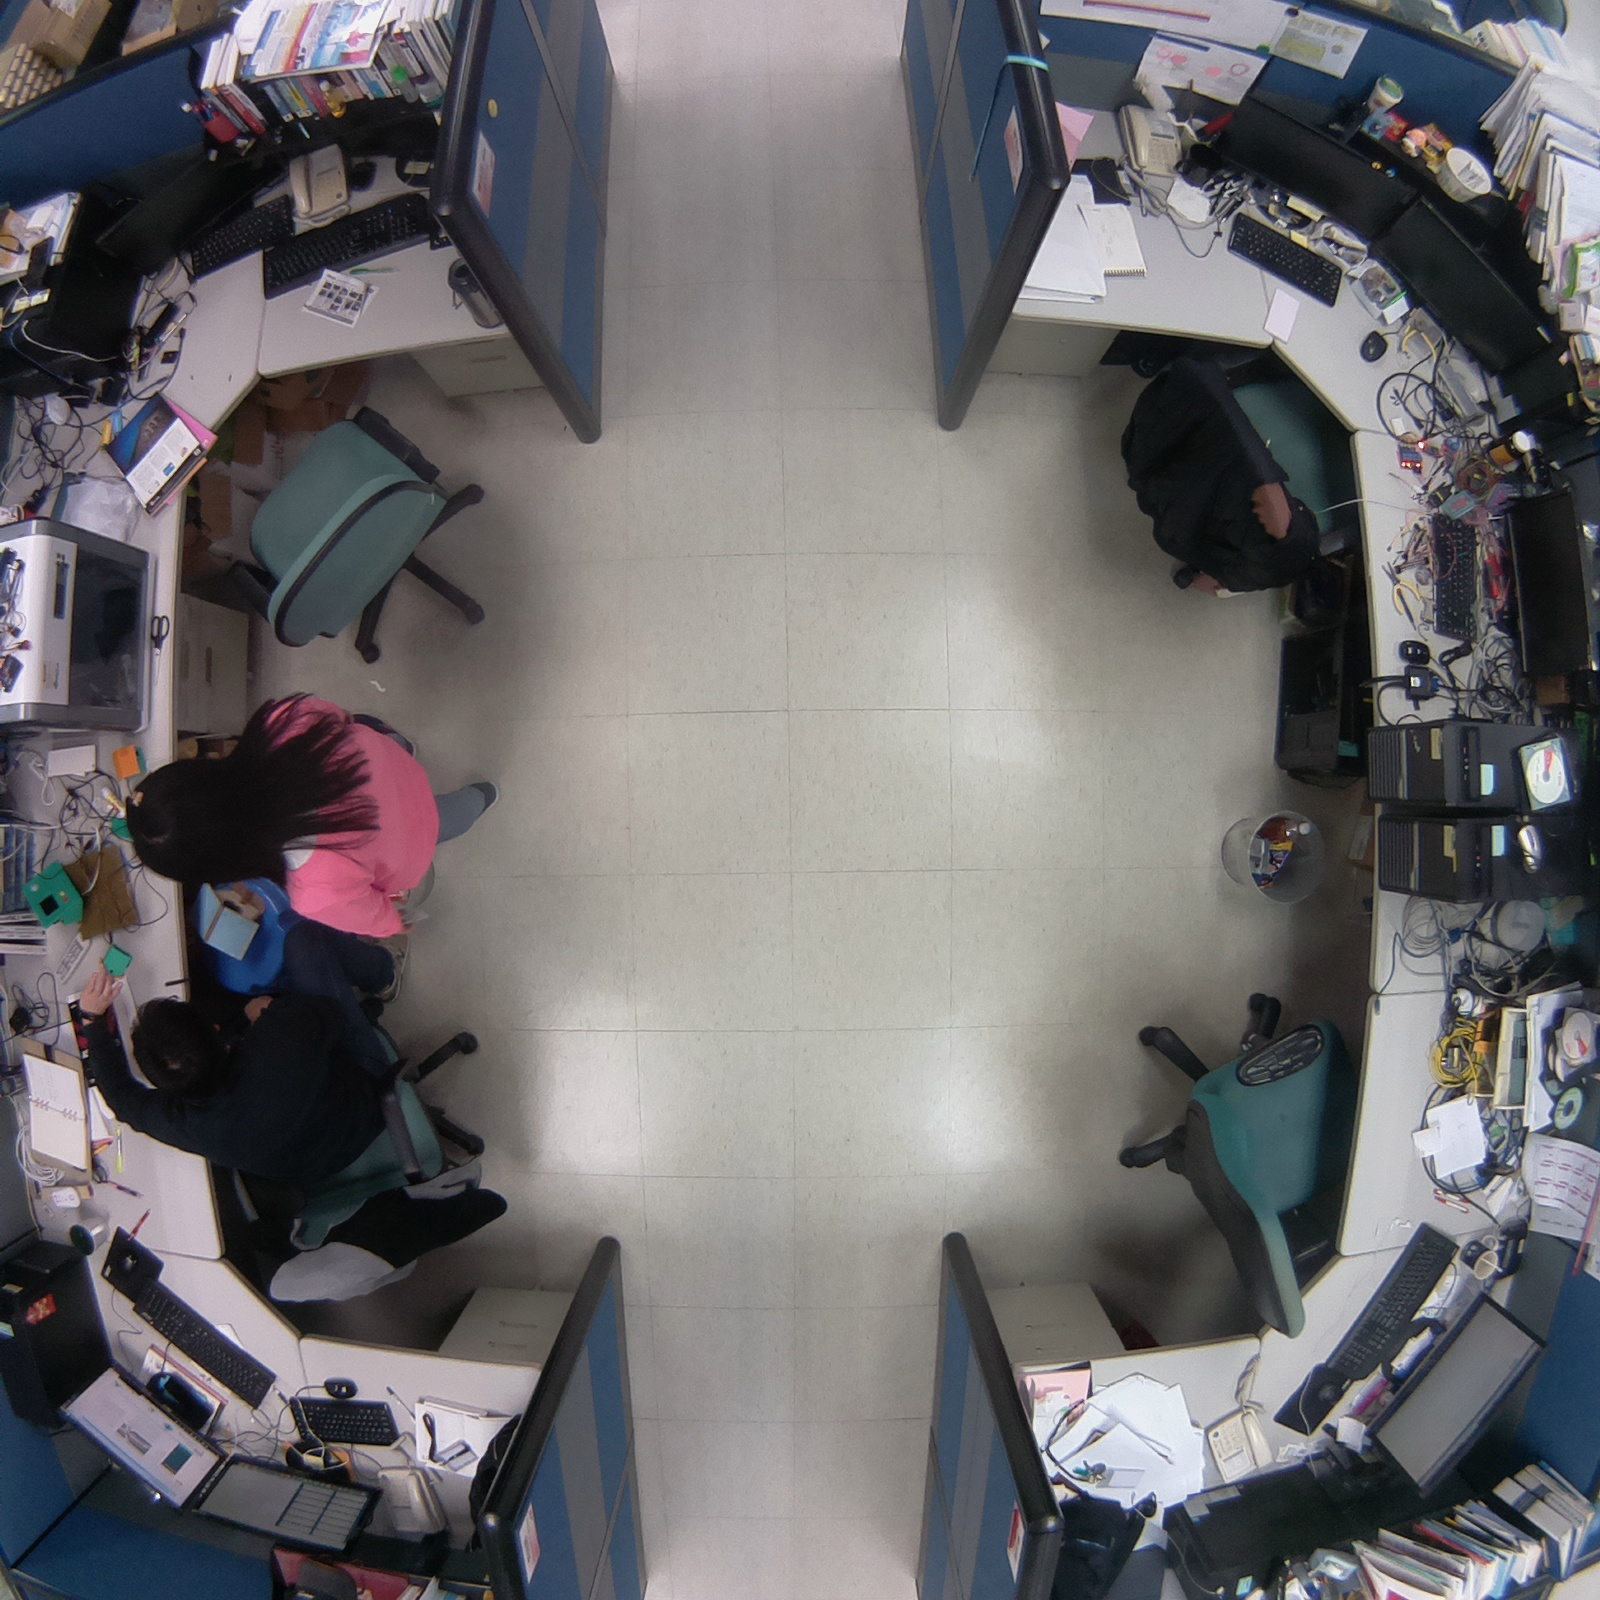chair: (1101, 975, 1347, 1352), (227, 375, 514, 681), (1106, 319, 1373, 619)
head: (117, 734, 310, 893), (121, 995, 240, 1102)
sitting: (61, 960, 522, 1319)
standing: (101, 685, 510, 952)
